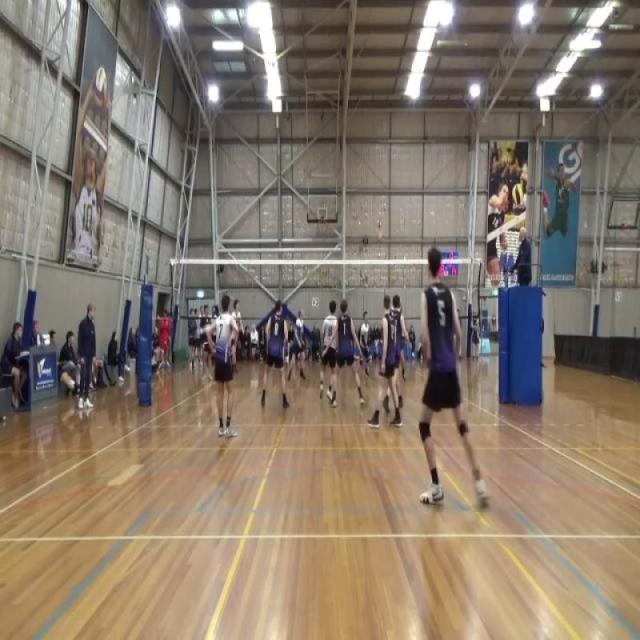volleyball: (92, 67, 108, 111), (511, 180, 524, 207), (376, 230, 384, 246)
